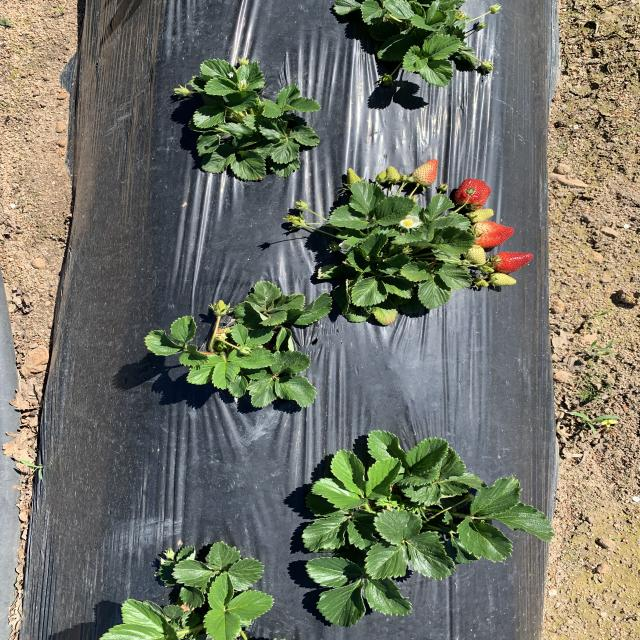unripe: (453, 177, 493, 211), (492, 248, 536, 274), (470, 221, 514, 246)
